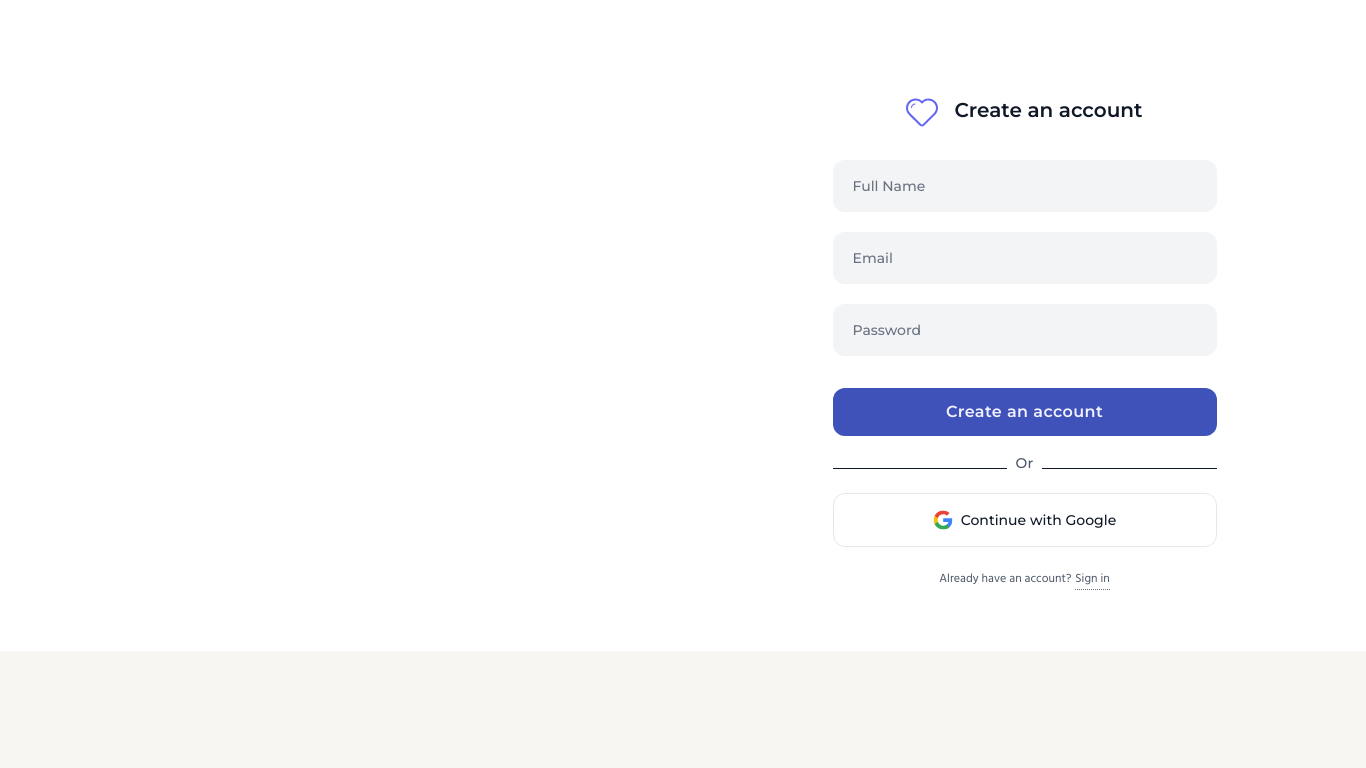
Test case: SignUp › shows validation error for invalid email
In the field labelled "Email": (1024, 258) [832,232,1216,284], type "invalid-email"
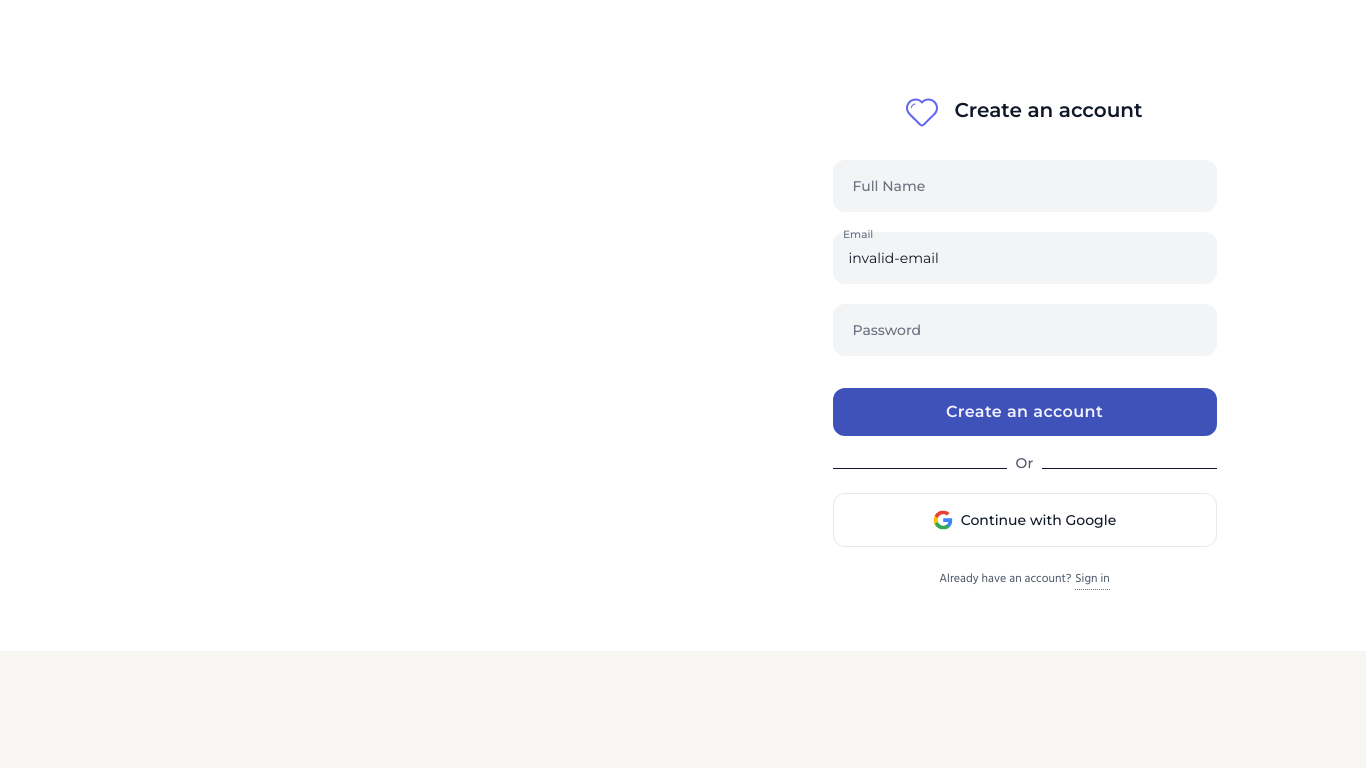
Click the button "Create an account": (1024, 412) [832,388,1216,436]
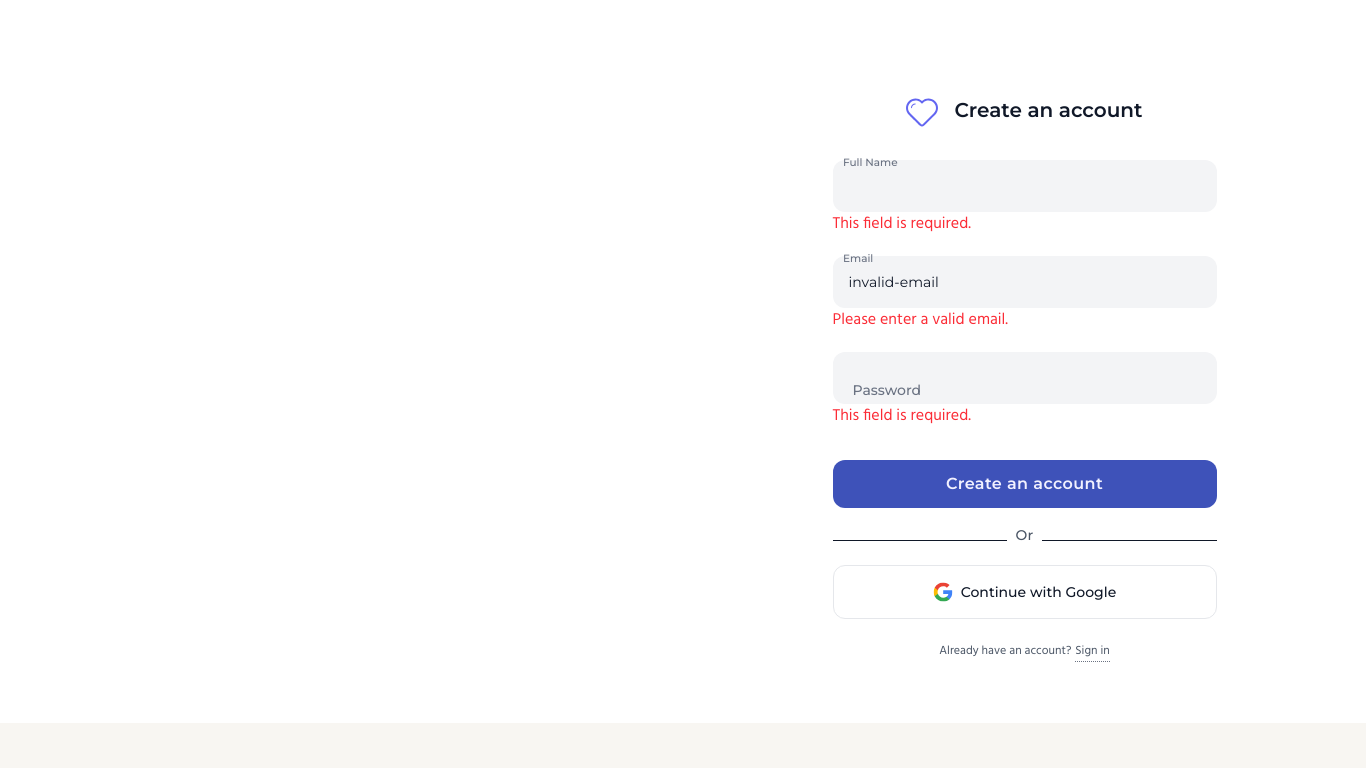
Expected: the text with test id "email-input-validation-error" reads "Please enter a valid email.", [832,307,1008,333]
